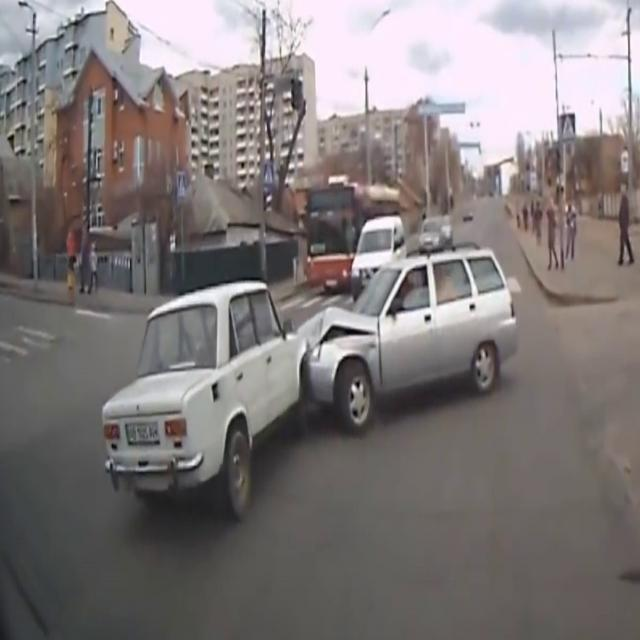accident: (197, 258, 460, 449)
